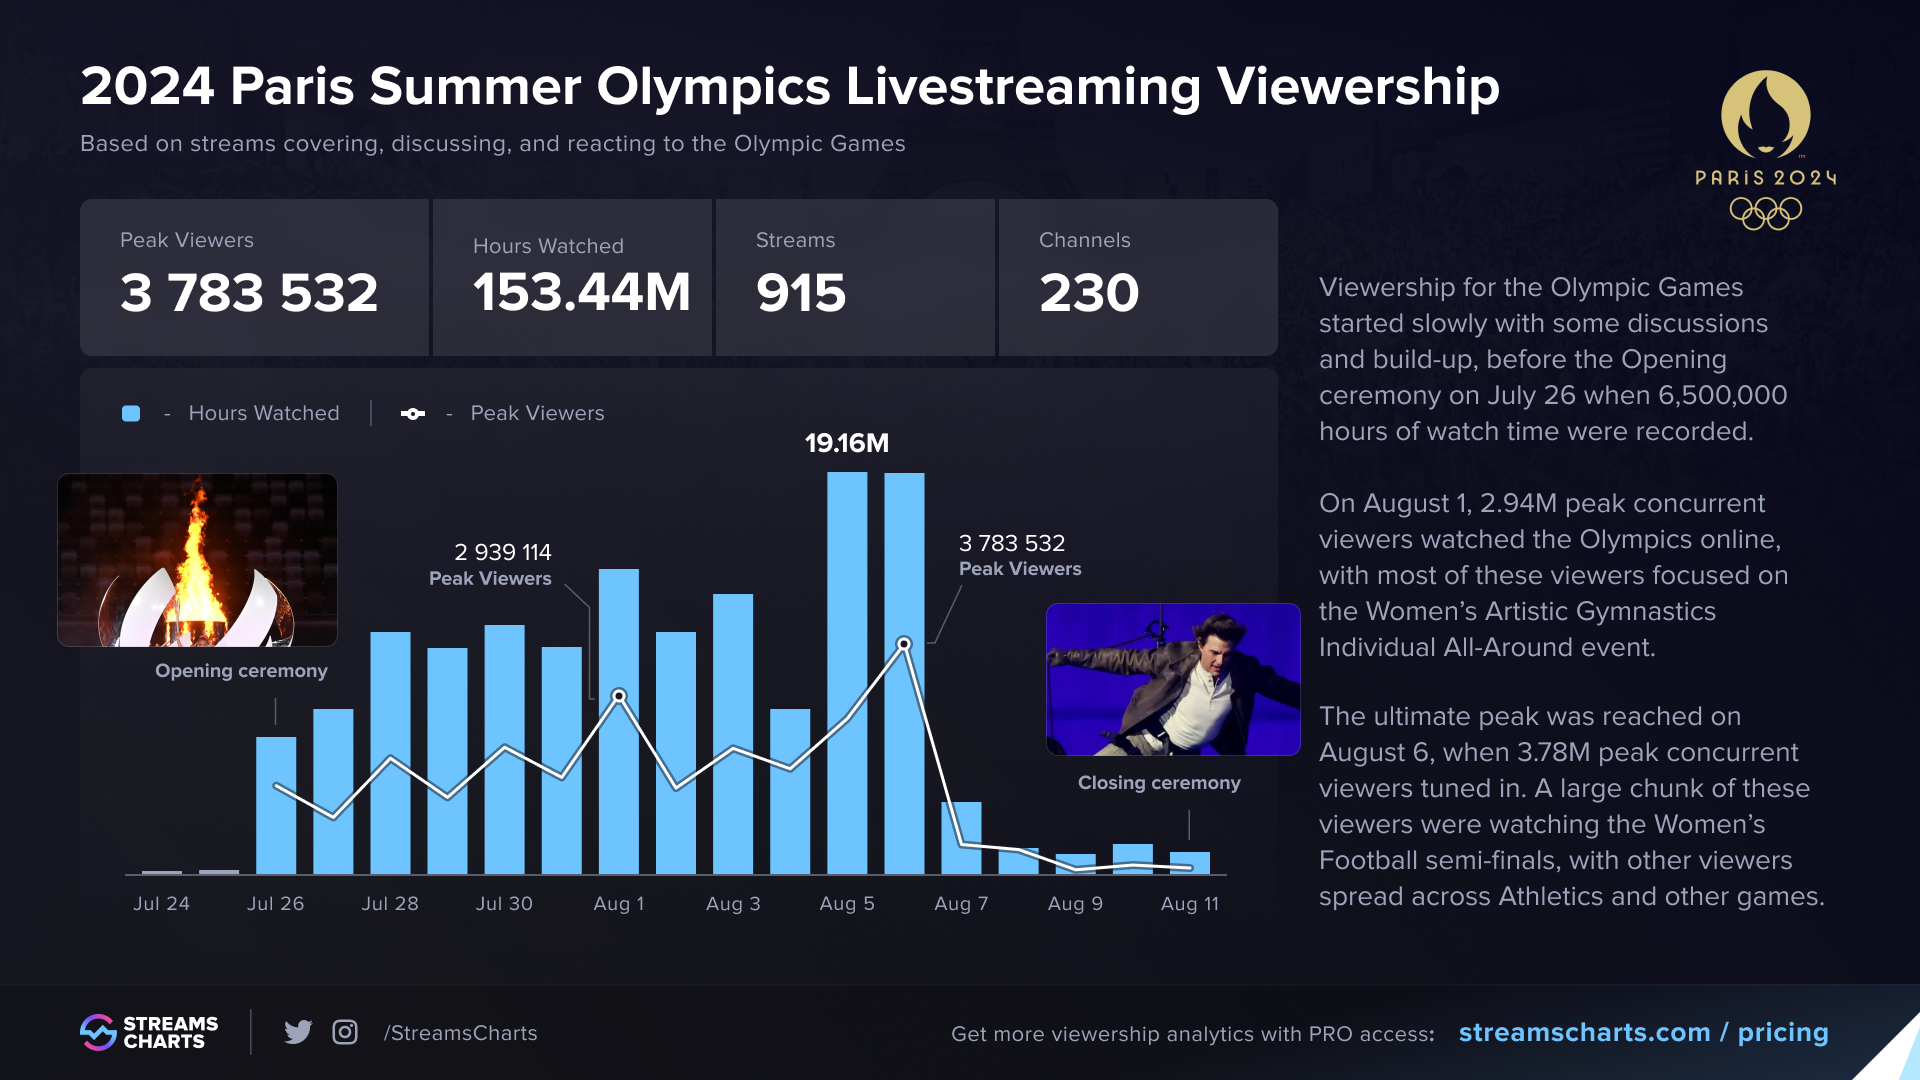

The dashboard page shown, as its layout file describes it:
{"tool":"tableau","page":{"name":"04 Viewing Trends","canvas":[1366,768],"ordinal":4},"visuals":[{"type":"image","param":"C:/Users/manht/Desktop/_IRONHACK/_FinalProject_InternetUsage/presentation/Canva/","box":[0,0,1037,768]},{"type":"filter","title":"Viewership Trends","param":"[federated.1makh1k1y6nex615t10z3065ouso].[:Measure Names]","box":[1037,0,329,63]},{"type":"worksheet","title":"Viewership Trends","mark":"Automatic","cols":["F1"],"box":[123,25,628,711]},{"type":"filter","title":"Viewership Trends","param":"[federated.1makh1k1y6nex615t10z3065ouso].[none:F1:nk]","box":[1037,63,329,705]}]}

Visuals, with their boxes in screenshot pixels (x1, y1, x2, y2), scaled from the page's 1366x768 canvas onto the 1920x1080 screenshot:
image: left=0, top=0, right=1458, bottom=1079
"Viewership Trends" filter: left=1458, top=0, right=1919, bottom=89
"Viewership Trends" worksheet: left=173, top=35, right=1056, bottom=1035
"Viewership Trends" filter: left=1458, top=89, right=1919, bottom=1079
